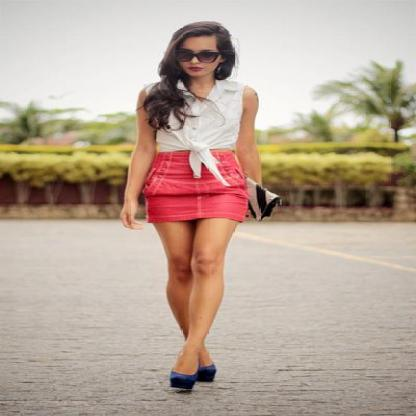bag: (248, 185, 278, 220)
shirt: (157, 79, 242, 174)
shoe: (171, 364, 215, 394)
skirt: (137, 148, 262, 224)
sunglass: (166, 42, 204, 61)
